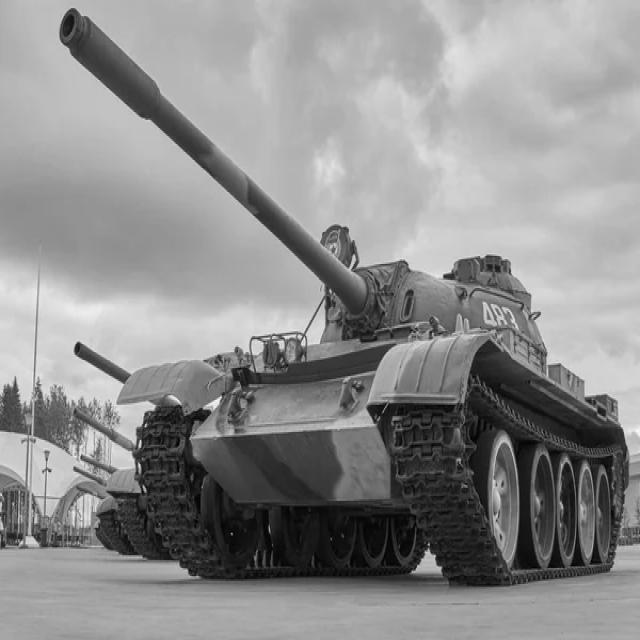Tank: (58, 5, 633, 585)
